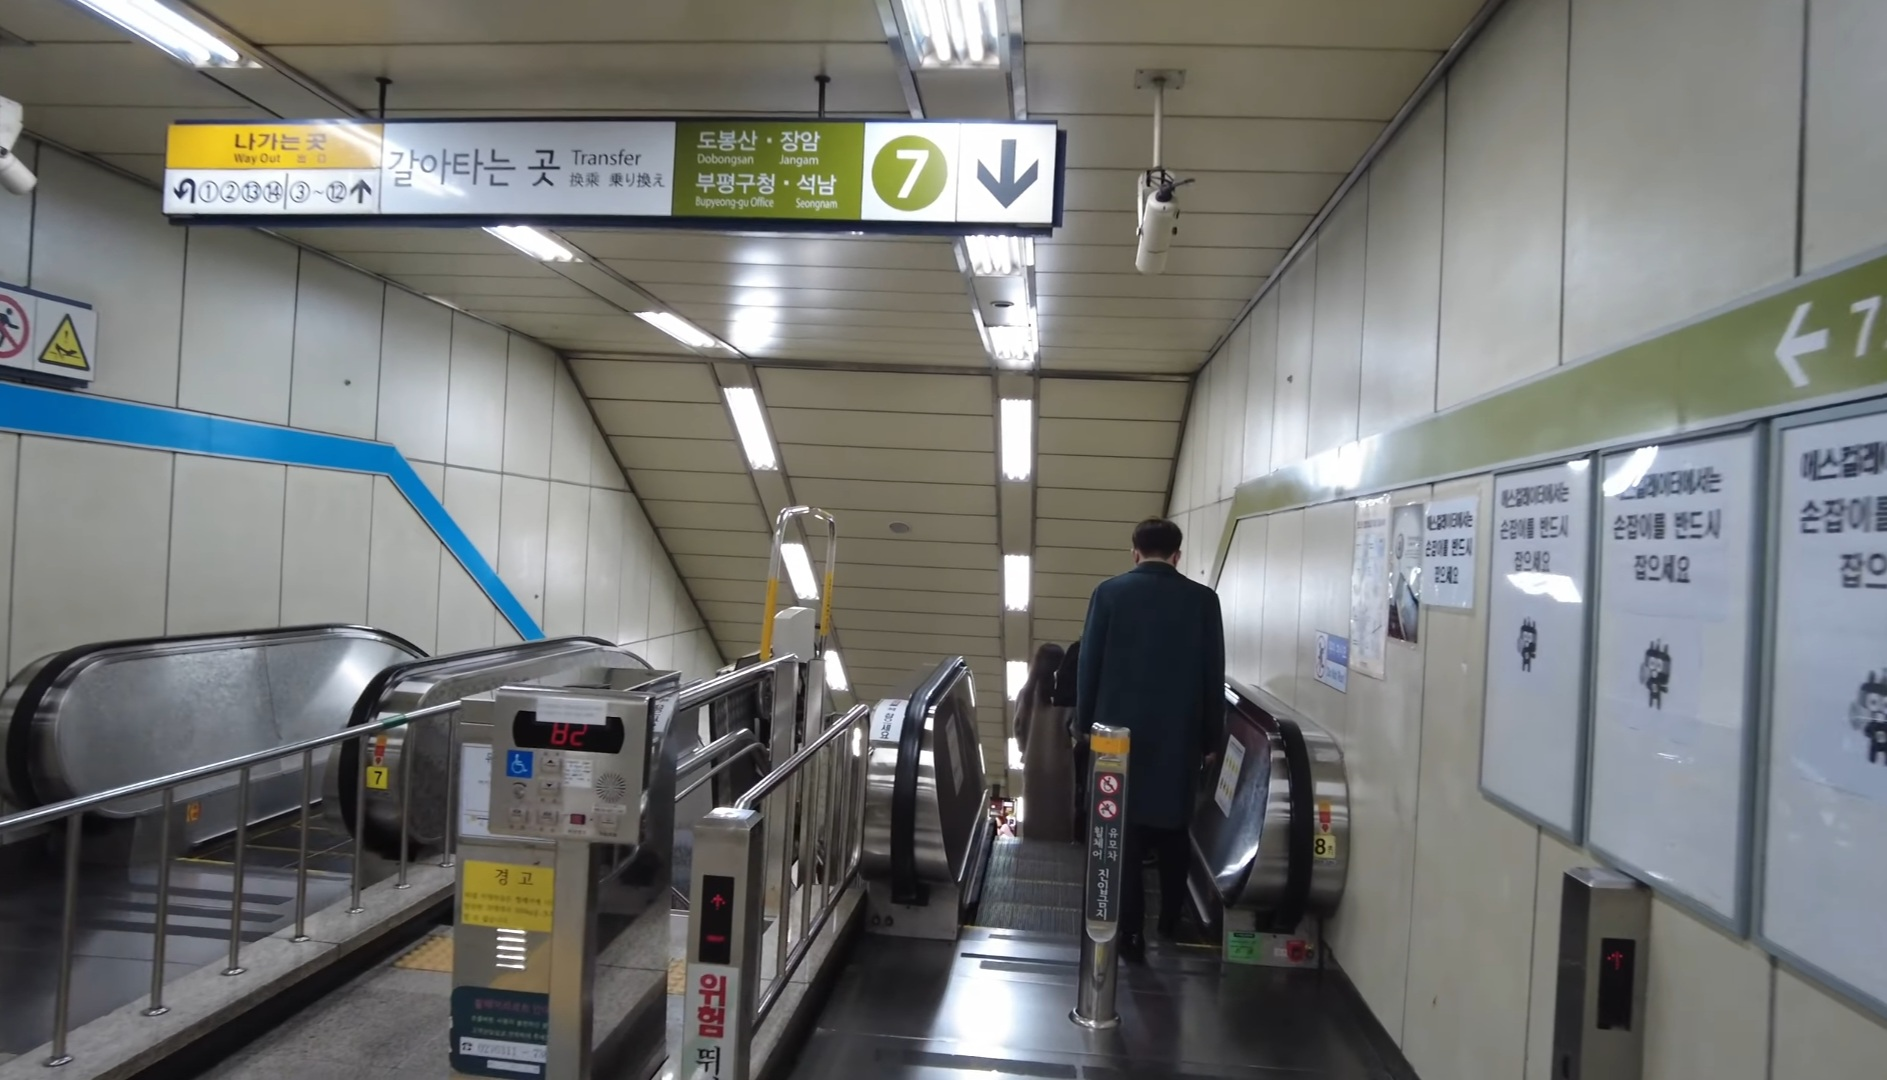signBoard: (153, 104, 1071, 244)
